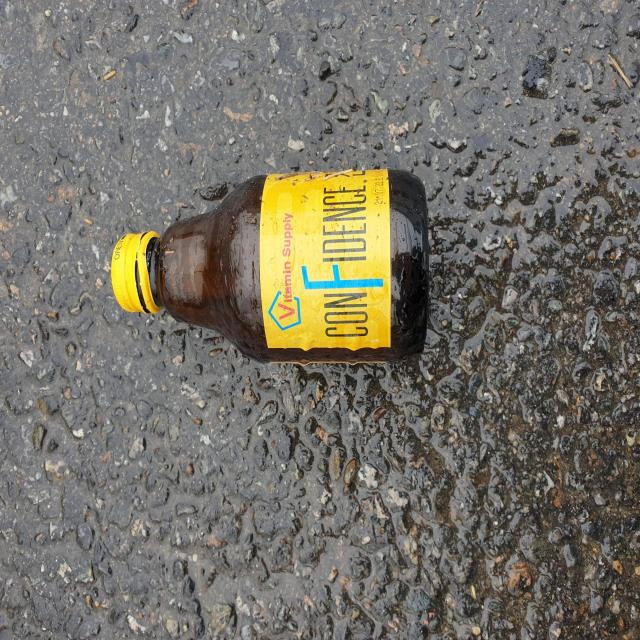glass: (111, 168, 429, 362)
